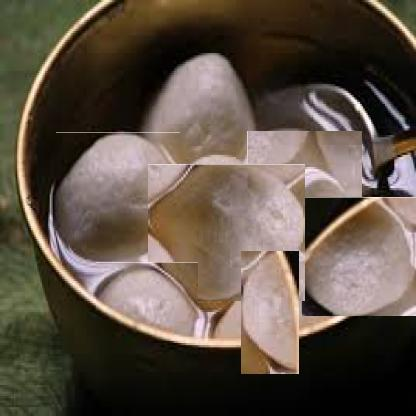rasgulla: (153, 159, 300, 307), (56, 132, 180, 263), (301, 197, 416, 316), (247, 130, 362, 244), (144, 52, 254, 170), (225, 267, 316, 357), (96, 262, 198, 341)
